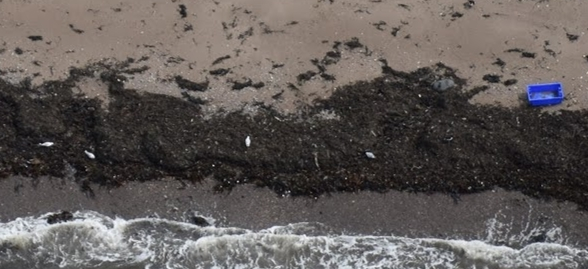cuboid: (521, 71, 569, 112)
scattered_barrel: (15, 104, 390, 183)
